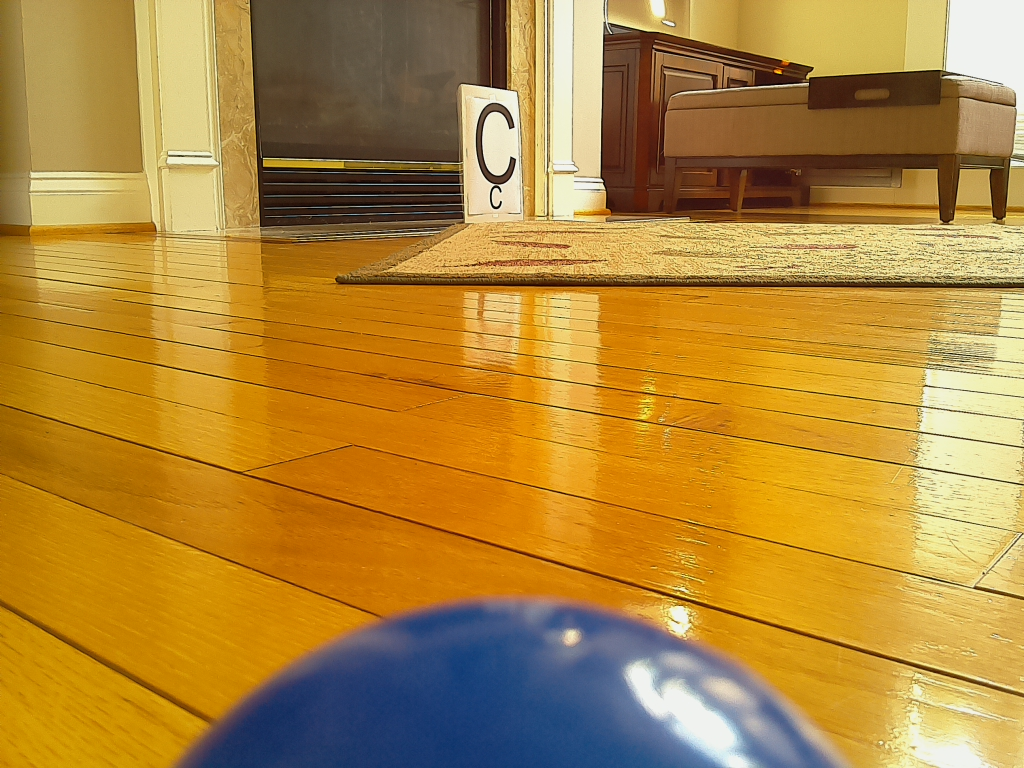letter: (477, 103, 516, 185)
